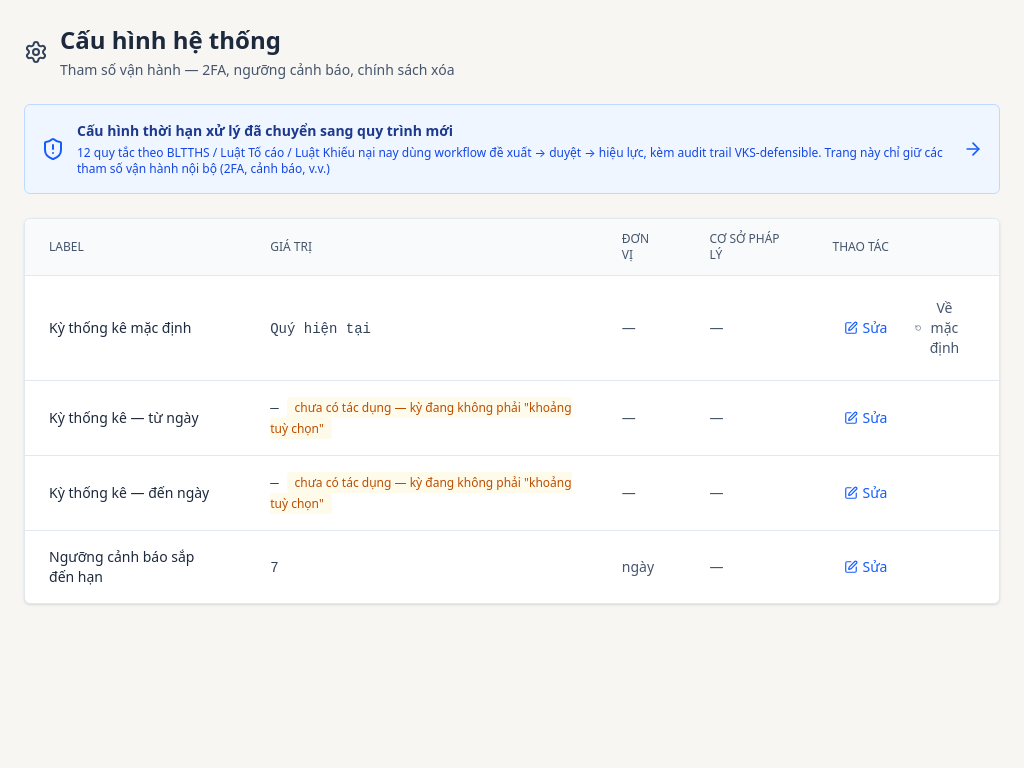
SettingsPage — kỳ thống kê › khoá có danh sách giá trị render Ô CHỌN, không phải ô gõ chữ
This screenshot has width=1024, height=768.
Click the button with test id "btn-edit-THONG_KE_KY" at (866, 328), box [832,312,900,344]
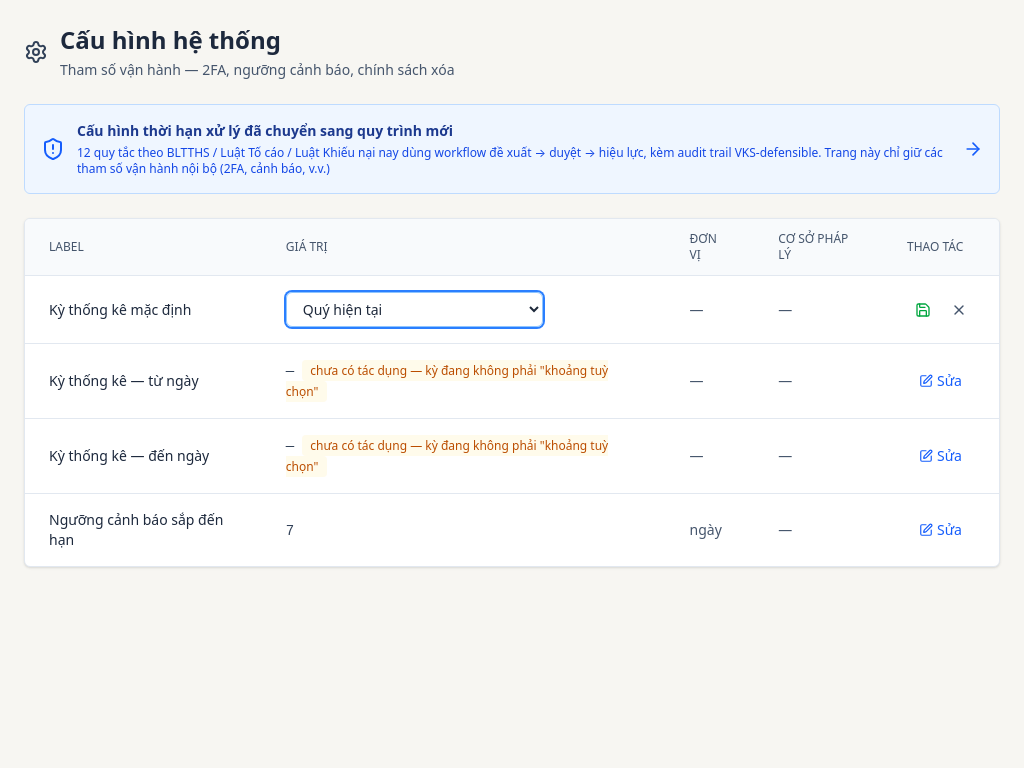
expect the dropdown with test id "edit-select-THONG_KE_KY" is shown: met, box [286,292,543,327]
